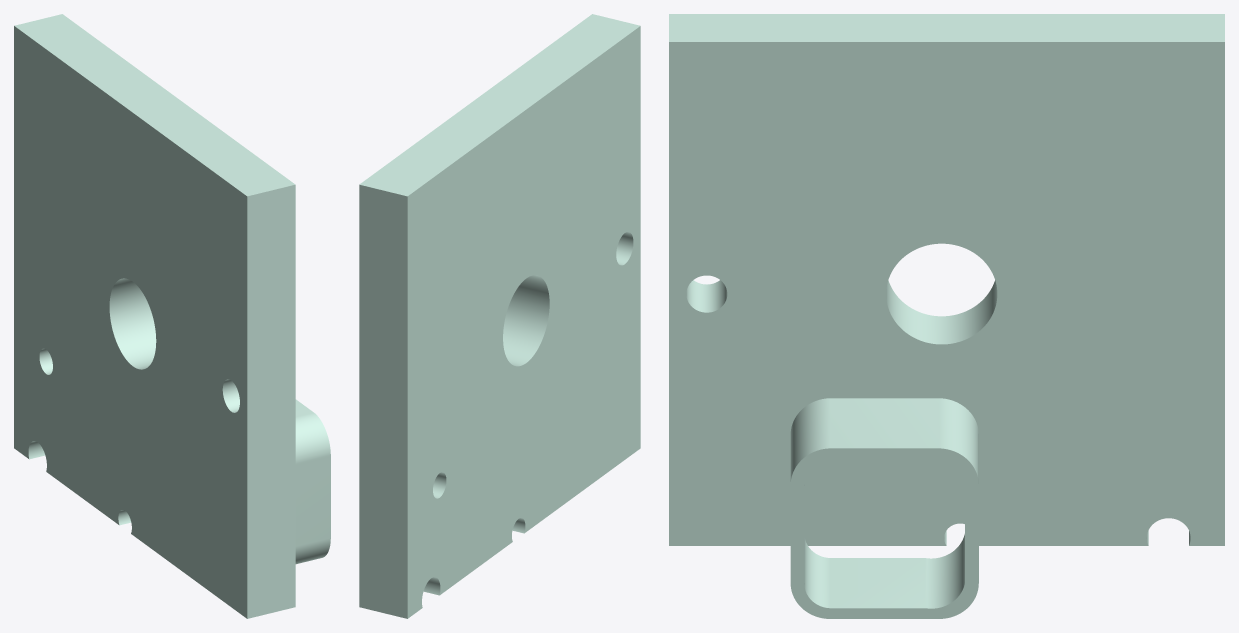
3 renders of one model, left to right at view 1: azimuth 30°, elevation 25°; view 2: azimuth 150°, elevation 25°; view 3: azimuth 270°, elevation 25°, orthographic. The views are drawn at different scales.
Visible parts, largest first — view 1: Renderer Node; view 2: Renderer Node; view 3: Renderer Node.
Part boxes in pixels (left/top/right/bottom): Renderer Node: left=14, top=14, right=330, bottom=618; Renderer Node: left=359, top=14, right=640, bottom=618; Renderer Node: left=669, top=14, right=1224, bottom=618.
Bounding box in the file's own units: 0.5 × 1.57 × 1.5.
